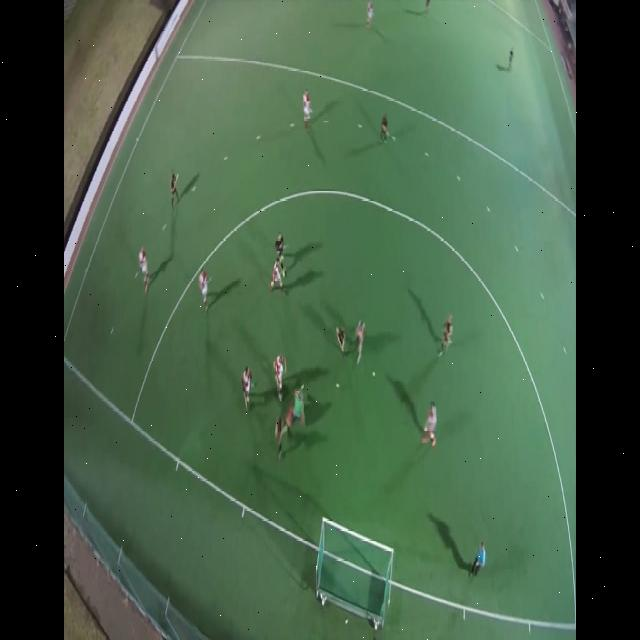humans: (274, 381, 309, 460), (436, 310, 456, 367), (467, 536, 489, 584), (271, 346, 287, 408), (419, 402, 439, 450), (239, 358, 255, 408), (352, 314, 368, 363), (197, 259, 211, 311), (270, 253, 286, 292), (167, 165, 179, 211), (300, 84, 314, 123), (377, 107, 389, 148), (140, 245, 151, 288), (334, 323, 346, 353), (274, 228, 284, 259)
